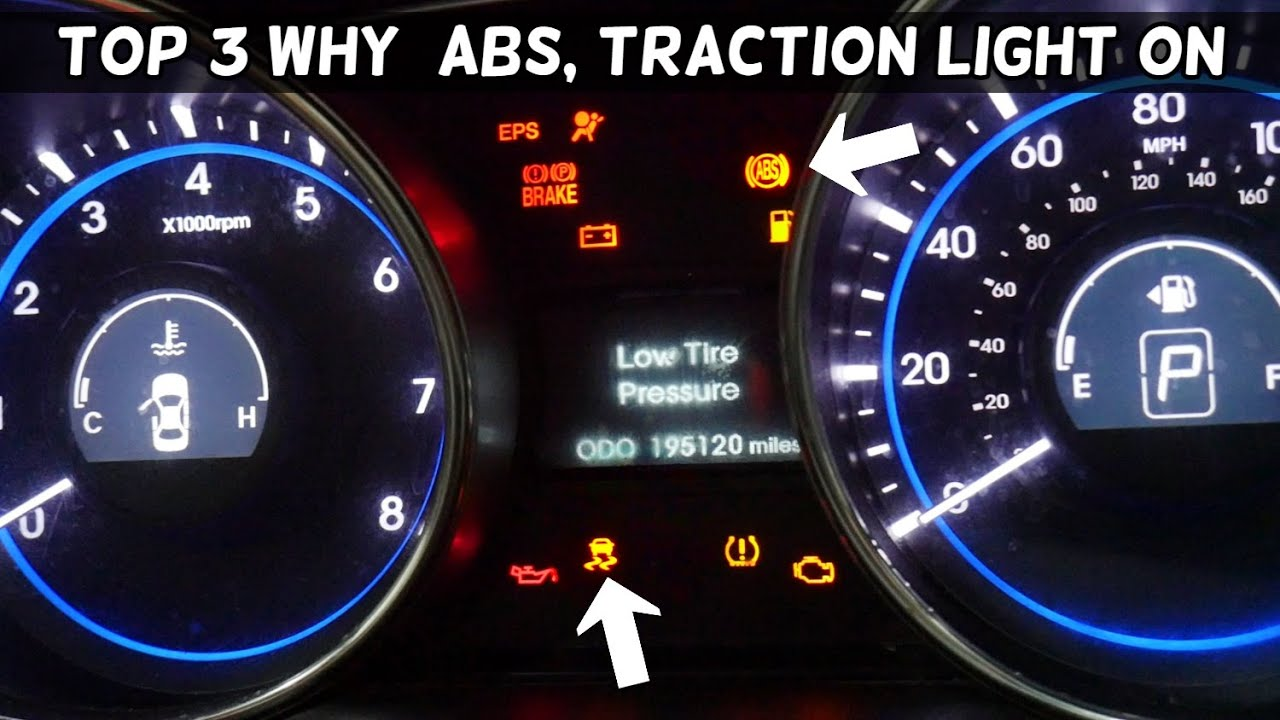ABS: (741, 145, 794, 196)
